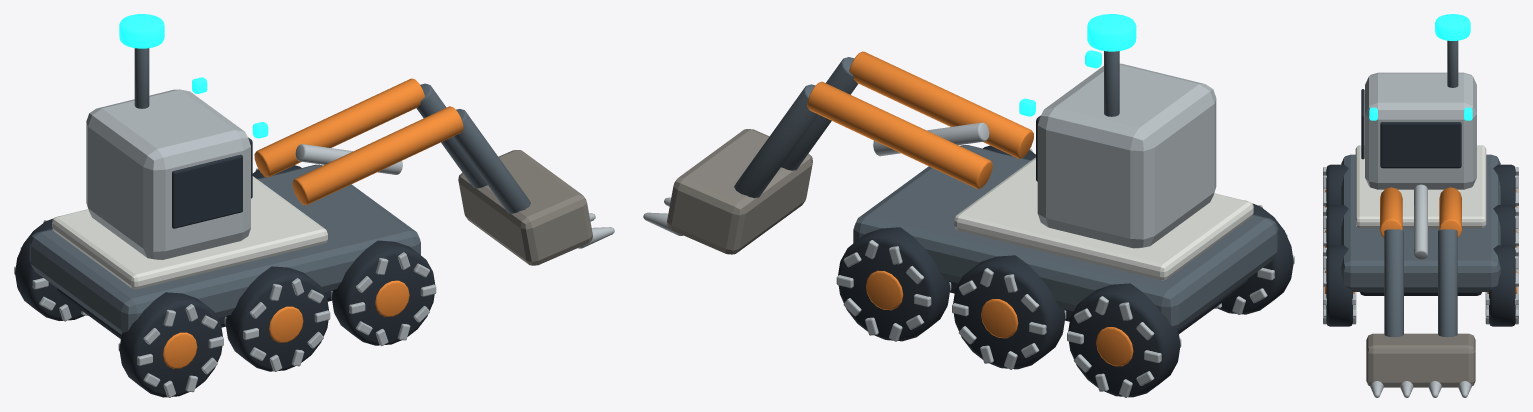
The model's file is excavator.glb.
3 views of the same model, side by side, from view 1: azimuth 30°, elevation 25°; view 2: azimuth 150°, elevation 25°; view 3: azimuth 270°, elevation 25° (orthographic). The views are drawn at different scales.
Visible parts, largest first — view 1: Excavator_Cab, Excavator_Chassis, Excavator_Deck, Excavator_Bucket, Excavator_Wheel_1_L, Excavator_Wheel_3_L, Excavator_Wheel_2_L, Excavator_BoomUpper, Excavator, Excavator_BoomLower, Excavator_CabWindowSide, Excavator_Dipper (+8 smaller); view 2: Excavator_Cab, Excavator_Chassis, Excavator_Deck, Excavator_Bucket, Excavator_Wheel_1_R, Excavator_Wheel_2_R, Excavator_Wheel_3_R, Excavator_BoomLower, Excavator, Excavator_BoomUpper, Excavator_DipperTwin, Excavator_Wheel_1_L (+7 smaller); view 3: Excavator_Chassis, Excavator_Cab, Excavator_Bucket, Excavator_Deck, Excavator_CabWindowFront, Excavator_Dipper, Excavator_DipperTwin, Excavator_Wheel_3_L, Excavator_Wheel_3_R, Excavator, Excavator_HydraulicRam, Excavator_BoomLower (+9 smaller).
Part boxes in pixels (x1,y1,x2,y2): Excavator_Cab: [86, 89, 250, 259]; Excavator_Chassis: [29, 164, 420, 334]; Excavator_Deck: [52, 176, 327, 289]; Excavator_Bucket: [458, 150, 592, 265]; Excavator_Wheel_1_L: [119, 292, 222, 397]; Excavator_Wheel_3_L: [331, 240, 435, 345]; Excavator_Wheel_2_L: [225, 266, 328, 371]; Excavator_BoomUpper: [292, 106, 463, 205]; Excavator: [14, 168, 436, 397]; Excavator_BoomLower: [254, 78, 424, 177]; Excavator_CabWindowSide: [172, 154, 242, 228]; Excavator_Dipper: [453, 109, 530, 213]; Excavator_Cab: [1037, 63, 1216, 248]; Excavator_Chassis: [853, 145, 1277, 329]; Excavator_Deck: [954, 157, 1253, 280]; Excavator_Bucket: [667, 129, 812, 254]; Excavator_Wheel_1_R: [1068, 283, 1180, 397]; Excavator_Wheel_2_R: [953, 255, 1065, 369]; Excavator_Wheel_3_R: [838, 227, 950, 341]; Excavator_BoomLower: [807, 81, 992, 188]; Excavator: [836, 149, 1294, 397]; Excavator_BoomUpper: [849, 51, 1033, 158]; Excavator_DipperTwin: [734, 84, 818, 198]; Excavator_Wheel_1_L: [1218, 203, 1293, 314]; Excavator_Chassis: [1341, 154, 1500, 291]; Excavator_Cab: [1365, 72, 1476, 189]; Excavator_Bucket: [1366, 333, 1475, 387]; Excavator_Deck: [1355, 145, 1486, 228]; Excavator_CabWindowFront: [1380, 122, 1461, 168]; Excavator_Dipper: [1384, 229, 1403, 337]; Excavator_DipperTwin: [1438, 229, 1457, 337]; Excavator_Wheel_3_L: [1326, 245, 1352, 326]; Excavator_Wheel_3_R: [1489, 245, 1515, 326]; Excavator: [1323, 167, 1518, 324]; Excavator_HydraulicRam: [1414, 184, 1427, 259]; Excavator_BoomLower: [1439, 187, 1461, 237].
Size of the model in its own units: 6.52 by 3.72 by 2.77.
